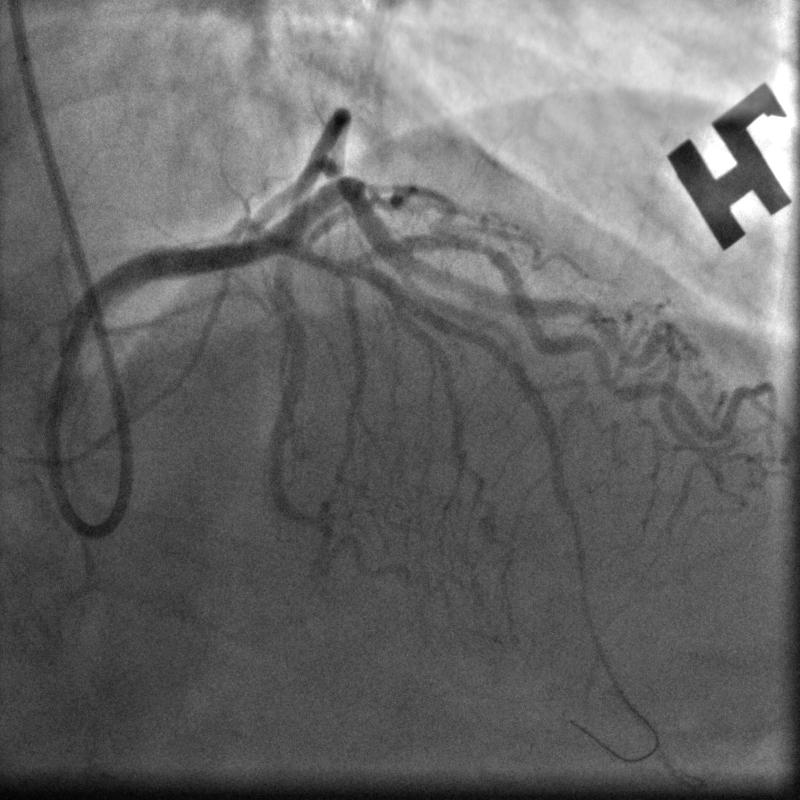Stenosis: (460, 230, 501, 268)
